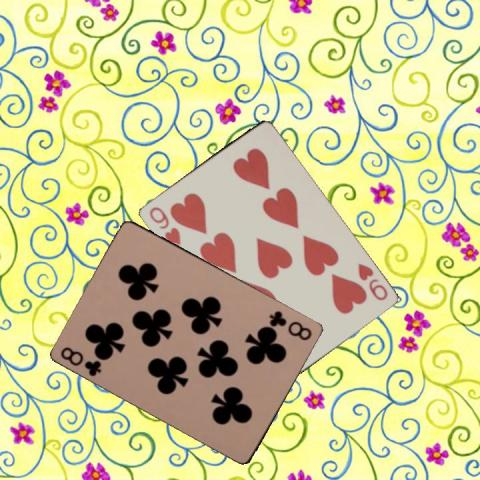8c: (266, 307, 314, 342), (57, 343, 103, 378)
9h: (145, 204, 182, 248), (354, 260, 389, 302)
